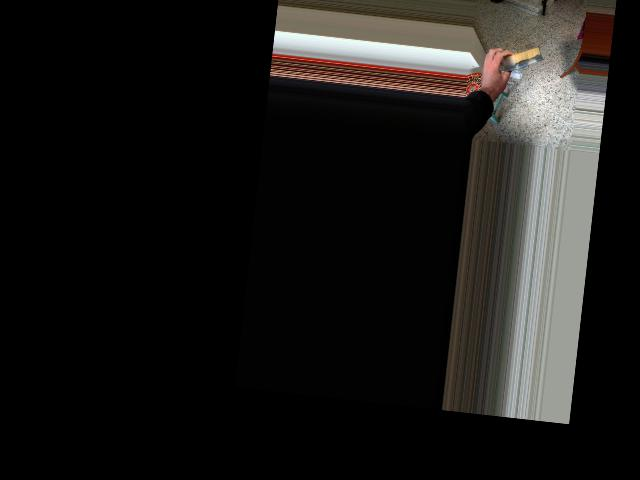cheese: (476, 26, 549, 87)
